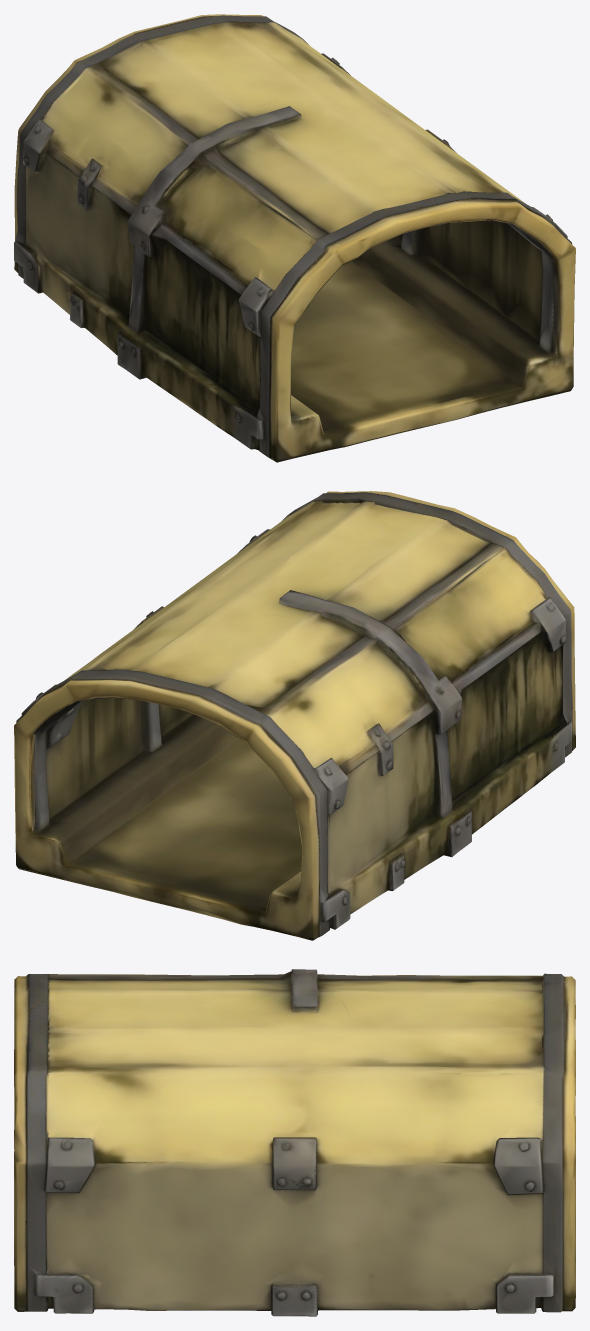
The model's file is tripo_convert_8753f4ed-a265-4abe-a525-6008ab679bf7.glb.
3 views of the same model, one above another, from view 1: azimuth 30°, elevation 25°; view 2: azimuth 150°, elevation 25°; view 3: azimuth 270°, elevation 25° (orthographic). The views are drawn at different scales.
Visible parts, largest first — view 1: tripo_node_8753f4ed-a265-4abe-a525-6008ab679bf7; view 2: tripo_node_8753f4ed-a265-4abe-a525-6008ab679bf7; view 3: tripo_node_8753f4ed-a265-4abe-a525-6008ab679bf7.
Boxes of the visible parts, left/top/right/bottom form: tripo_node_8753f4ed-a265-4abe-a525-6008ab679bf7: left=14, top=14, right=575, bottom=462; tripo_node_8753f4ed-a265-4abe-a525-6008ab679bf7: left=14, top=491, right=575, bottom=940; tripo_node_8753f4ed-a265-4abe-a525-6008ab679bf7: left=14, top=969, right=575, bottom=1316.
Bounding box in the file's own units: 0.7214 × 0.4575 × 1.
Materials: 1 (1 with a texture image).
